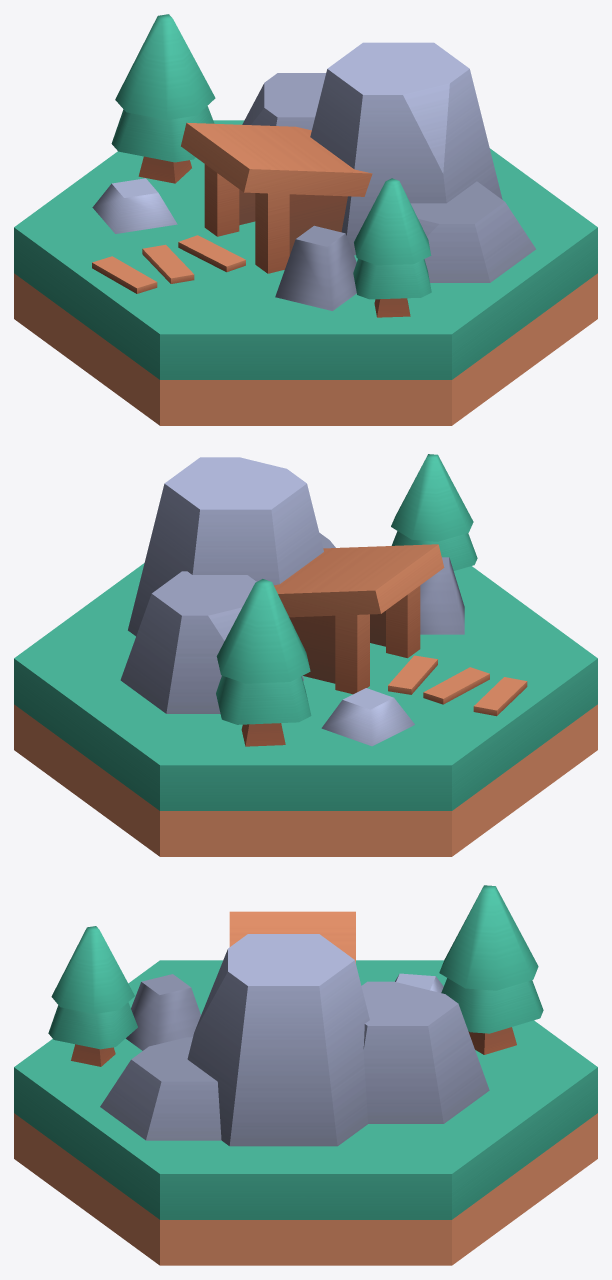
The model's file is building-mine.fbx.
The picture shows the model from 3 angles, top to bottom: view 1: azimuth 30°, elevation 25°; view 2: azimuth 150°, elevation 25°; view 3: azimuth 270°, elevation 25°; orthographic projection.
Visible parts, largest first — view 1: building_mine; view 2: building_mine; view 3: building_mine.
Boxes of the visible parts, bbox=[...] form: building_mine: bbox=[14, 14, 597, 425]; building_mine: bbox=[14, 454, 597, 856]; building_mine: bbox=[14, 885, 597, 1265].
Size of the model in its own units: 100 by 53.82 by 115.
1 material, 1 textured.
